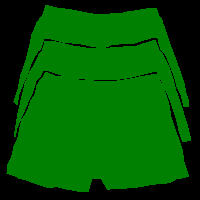mutande: (6, 71, 189, 192), (13, 39, 191, 142), (13, 4, 189, 107)
